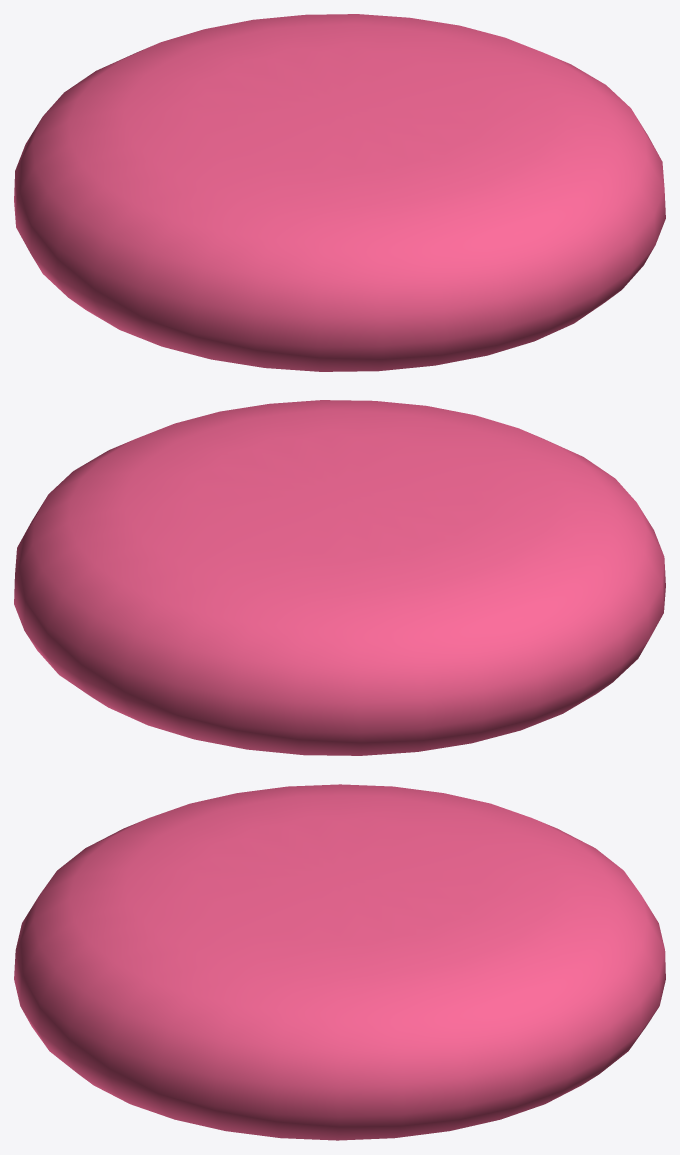
File: Donut_Icing_06.fbx
3 renders of one model, top to bottom at view 1: azimuth 30°, elevation 25°; view 2: azimuth 150°, elevation 25°; view 3: azimuth 270°, elevation 25°, orthographic.
Parts seen in each view (by area): view 1: Donut_Icing_06_LOD0; view 2: Donut_Icing_06_LOD0; view 3: Donut_Icing_06_LOD0.
Part boxes in pixels (bbox=[...]): Donut_Icing_06_LOD0: bbox=[14, 14, 665, 371]; Donut_Icing_06_LOD0: bbox=[14, 400, 665, 755]; Donut_Icing_06_LOD0: bbox=[14, 784, 665, 1140].
Size of what is drawn, in the model's own units: 554 by 130 by 554.
